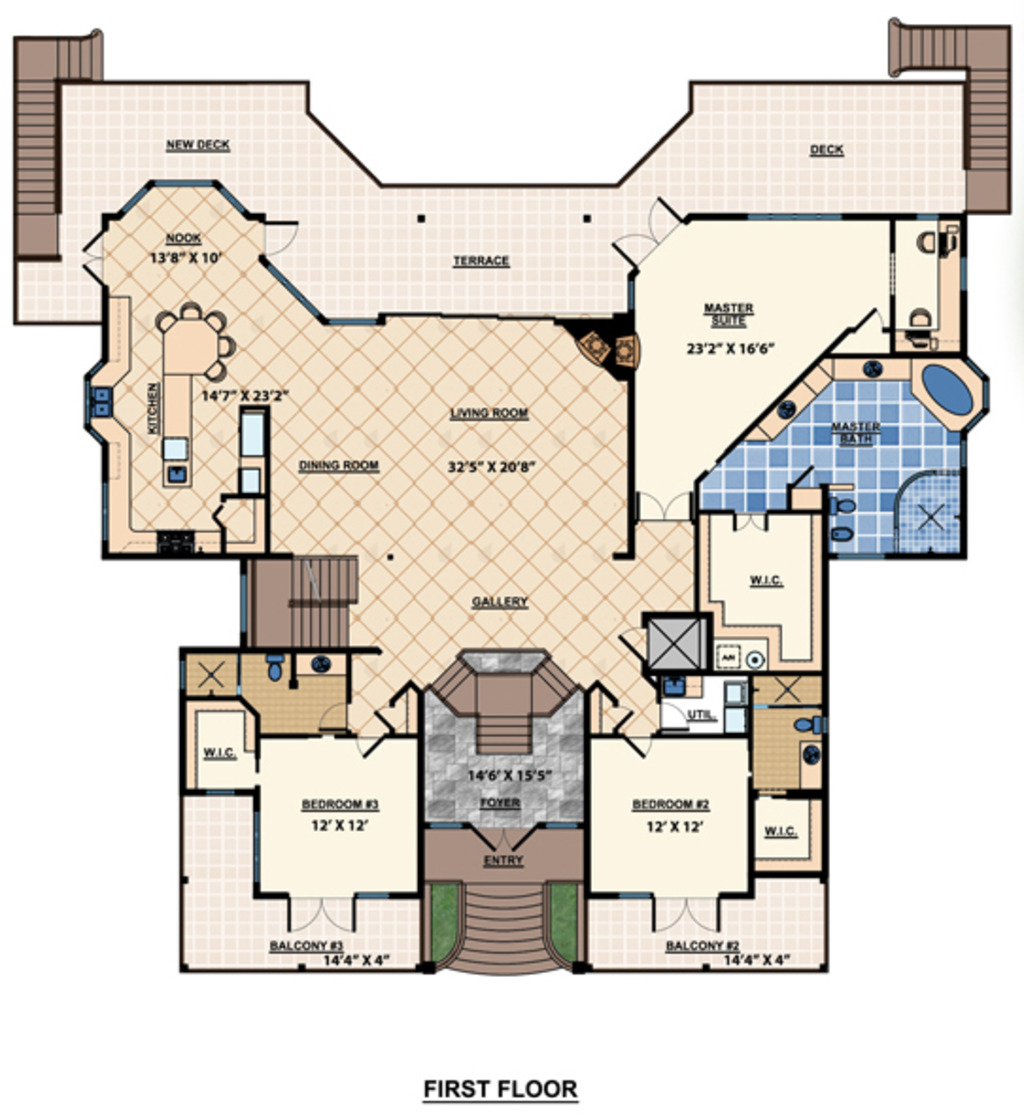door: (610, 198, 684, 265), (284, 890, 356, 936), (649, 893, 723, 934), (630, 490, 691, 527), (254, 211, 302, 254), (616, 623, 645, 662)
stairs: (889, 12, 1015, 208), (11, 29, 104, 274), (429, 652, 571, 759), (242, 549, 361, 659), (458, 877, 550, 981)
